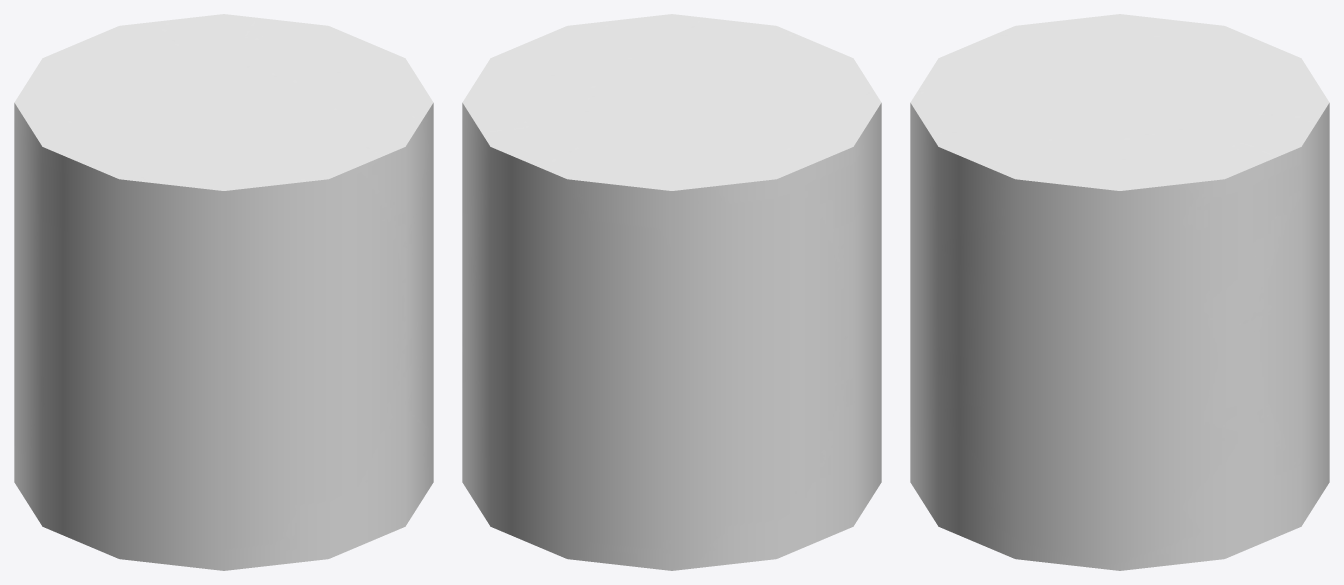
3 views of the same model, side by side, from view 1: azimuth 30°, elevation 25°; view 2: azimuth 150°, elevation 25°; view 3: azimuth 270°, elevation 25° (orthographic).
Visible parts, largest first — view 1: pCylinder2; view 2: pCylinder2; view 3: pCylinder2.
Part boxes in pixels (box(x1,y1,x2,y2)): pCylinder2: box(14, 14, 433, 570); pCylinder2: box(462, 14, 881, 570); pCylinder2: box(910, 14, 1329, 570).
Bounding box in the file's own units: 2 × 2 × 2.
Materials: 1 (1 with a texture image).
